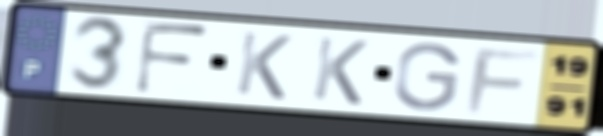3: (65, 12, 131, 97)
F: (130, 18, 214, 97), (461, 46, 543, 116)
G: (390, 40, 465, 114)
K: (231, 28, 296, 103), (308, 33, 372, 108)
